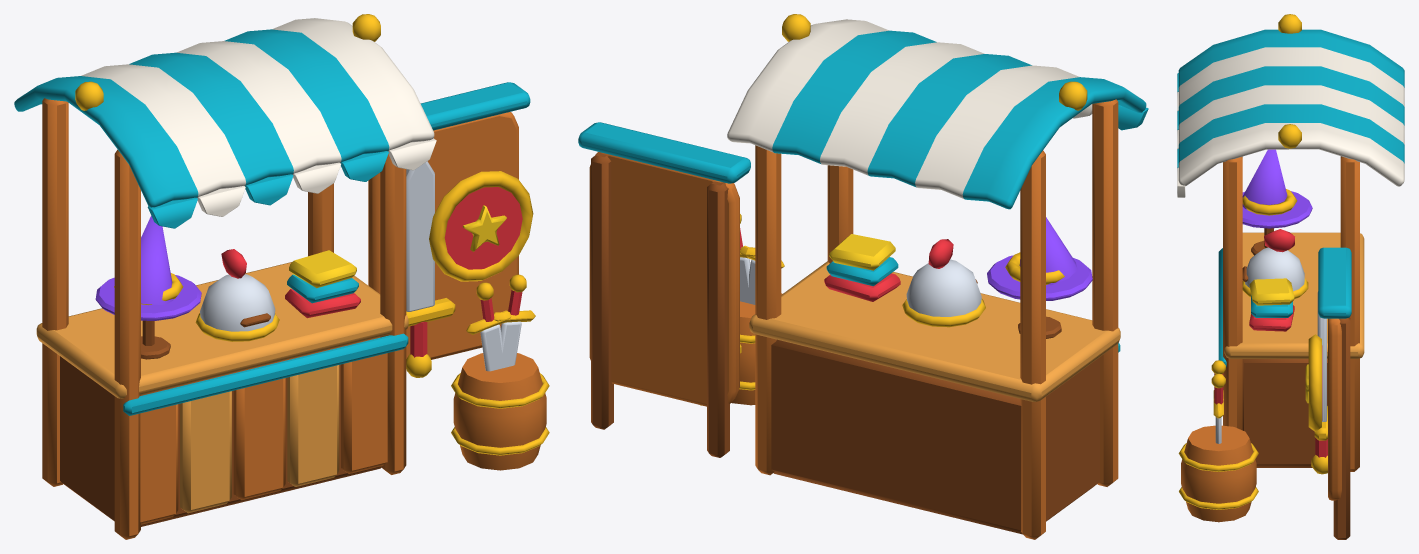
File: equipment-stall.glb
3 views of the same model, side by side, from view 1: azimuth 30°, elevation 25°; view 2: azimuth 150°, elevation 25°; view 3: azimuth 270°, elevation 25° (orthographic). The views are drawn at different scales.
Visible parts, largest first — view 1: equipment-stall; view 2: equipment-stall; view 3: equipment-stall.
Part boxes in pixels (left/top/right/bottom): equipment-stall: left=14, top=14, right=549, bottom=539; equipment-stall: left=578, top=14, right=1148, bottom=539; equipment-stall: left=1177, top=14, right=1404, bottom=539.
Size of the model in its own units: 3.18 by 2.75 by 1.62.
